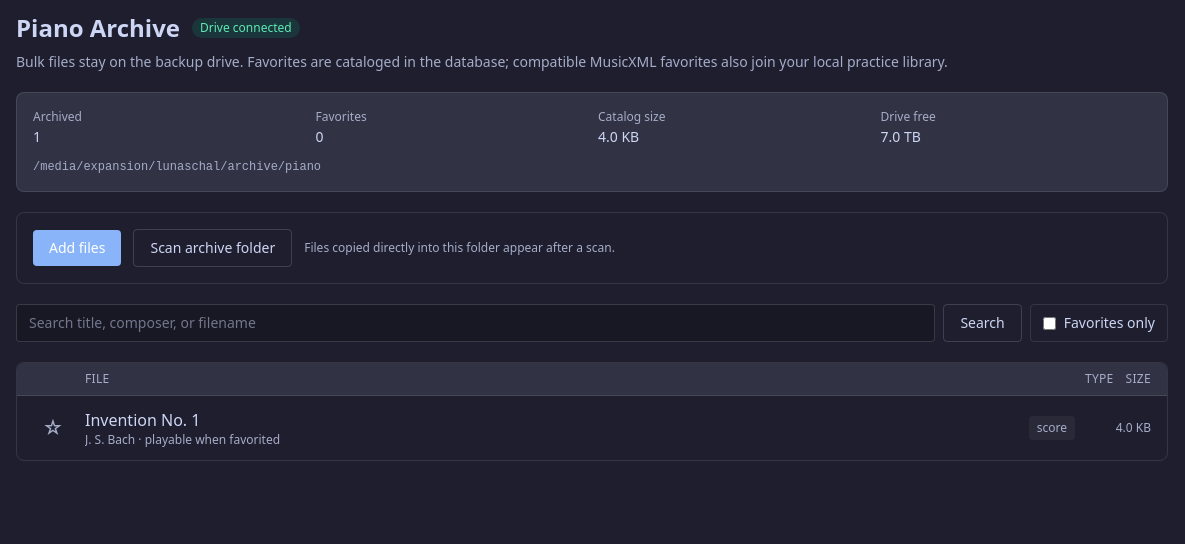
Test: PianoArchive › rescans files copied directly onto the drive
Check: the text "Drive connected" is shown, box [192, 18, 300, 38]
Click the button "Scan archive folder".
click(213, 248)  # box [134, 229, 292, 267]
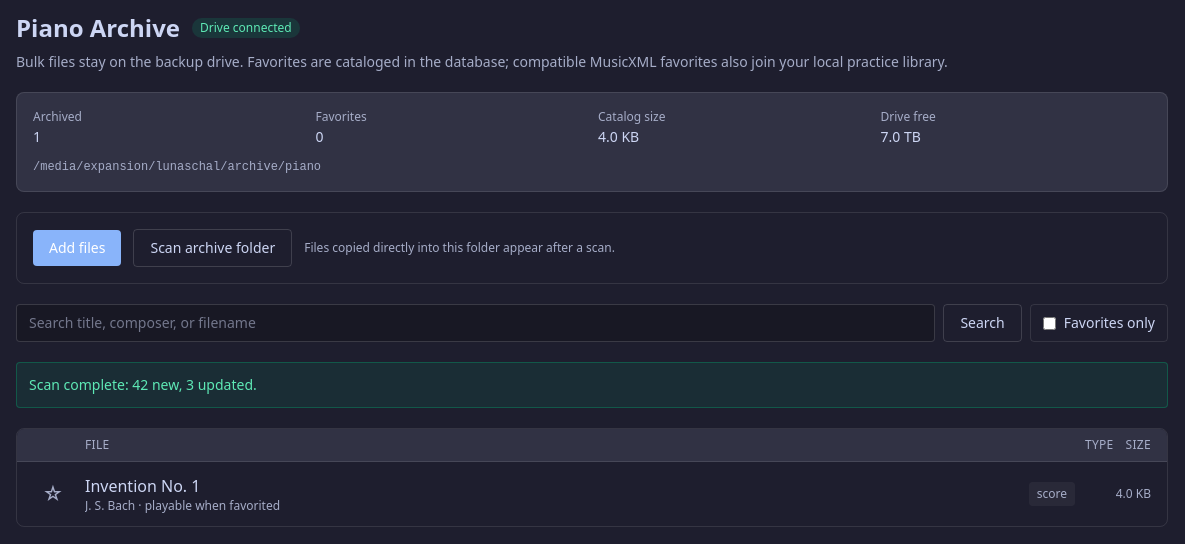
Check: the text "Scan complete: 42 new, 3 updated." is shown, box [16, 362, 1168, 408]
